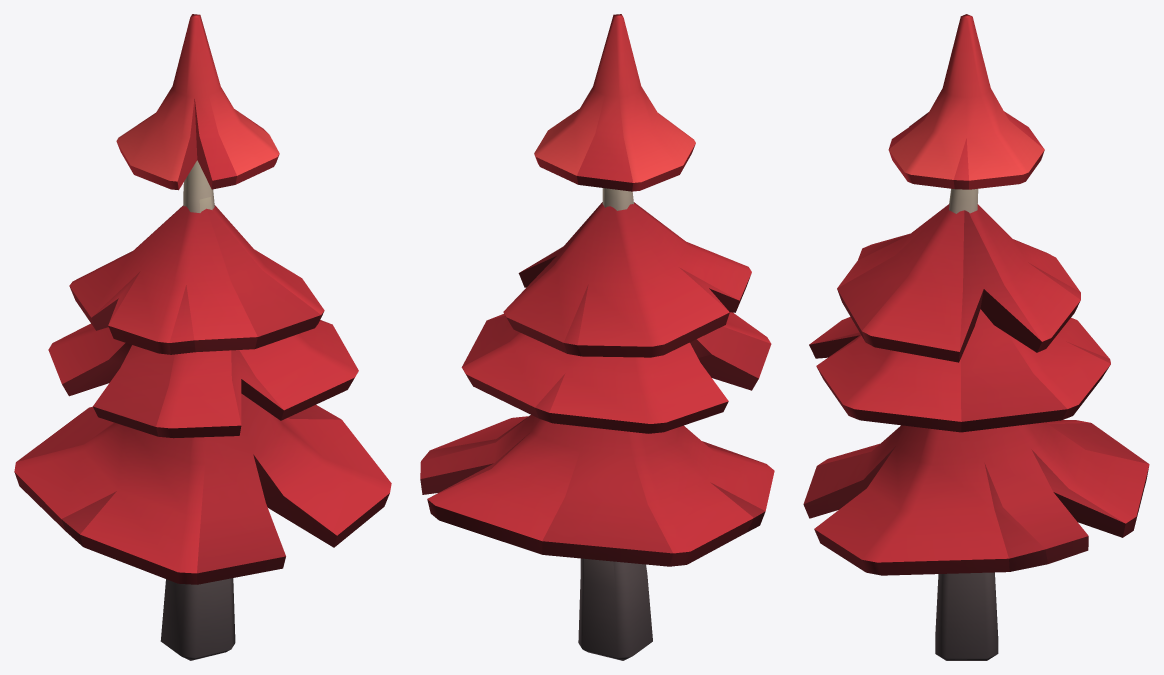
Rendered from pine_tree_col3_8.fbx.
3 renders of one model, left to right at view 1: azimuth 30°, elevation 25°; view 2: azimuth 150°, elevation 25°; view 3: azimuth 270°, elevation 25°, orthographic.
Visible parts, largest first — view 1: pine_tree_col3_8; view 2: pine_tree_col3_8; view 3: pine_tree_col3_8.
Boxes of the visible parts, x1,y1,x2,y2 form: pine_tree_col3_8: (14,14,391,660); pine_tree_col3_8: (420,14,774,660); pine_tree_col3_8: (803,14,1149,660).
Size of the model in its own units: 424 by 850 by 420.
Materials: 1 (1 with a texture image).
